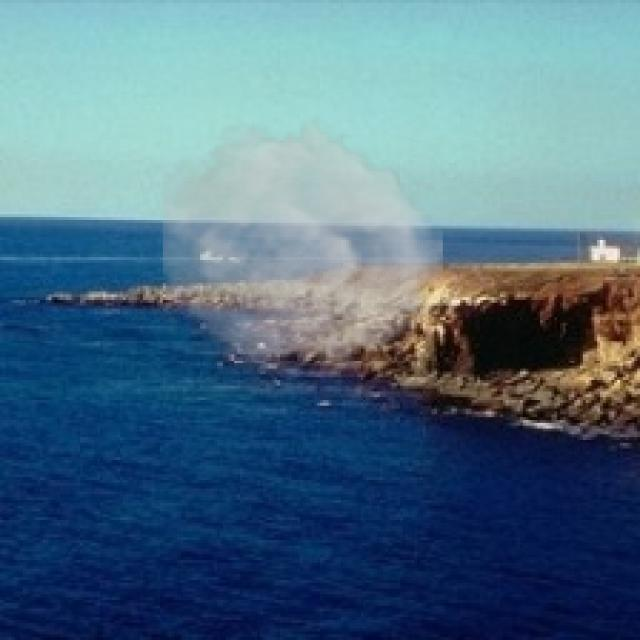smoke: (163, 114, 443, 380)
